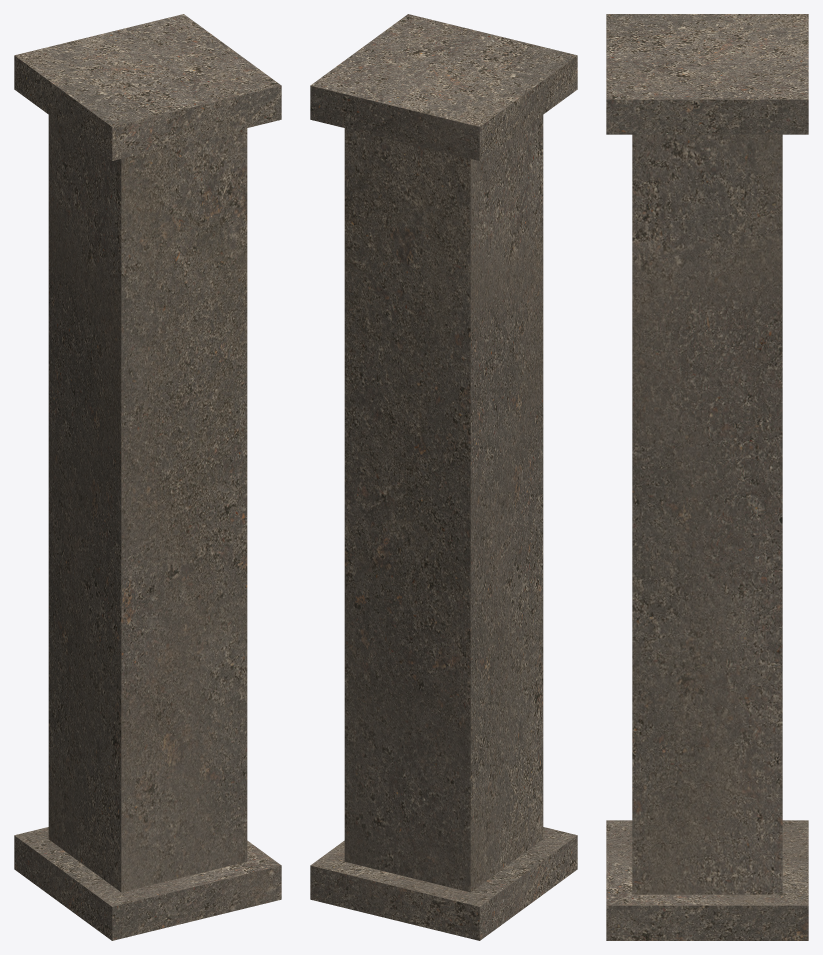
Rendered from pillar-modified.fbx.
3 renders of one model, left to right at view 1: azimuth 30°, elevation 25°; view 2: azimuth 150°, elevation 25°; view 3: azimuth 270°, elevation 25°, orthographic. The views are drawn at different scales.
Parts seen in each view (by area): view 1: post.001; view 2: post.001; view 3: post.001.
Part boxes in pixels (box(x1,y1,x2,y2)): post.001: box(14, 14, 281, 940); post.001: box(310, 14, 577, 940); post.001: box(606, 14, 808, 940).
Size of the model in its own units: 135 by 618 by 135.
Materials: 1 (1 with a texture image).
